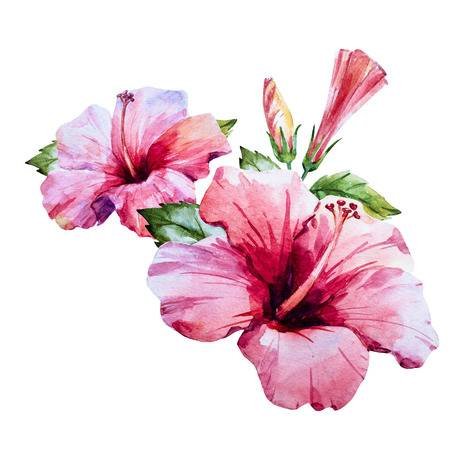Hibiscus: (152, 170, 429, 414), (44, 83, 220, 235), (243, 47, 320, 186), (325, 48, 400, 148)
